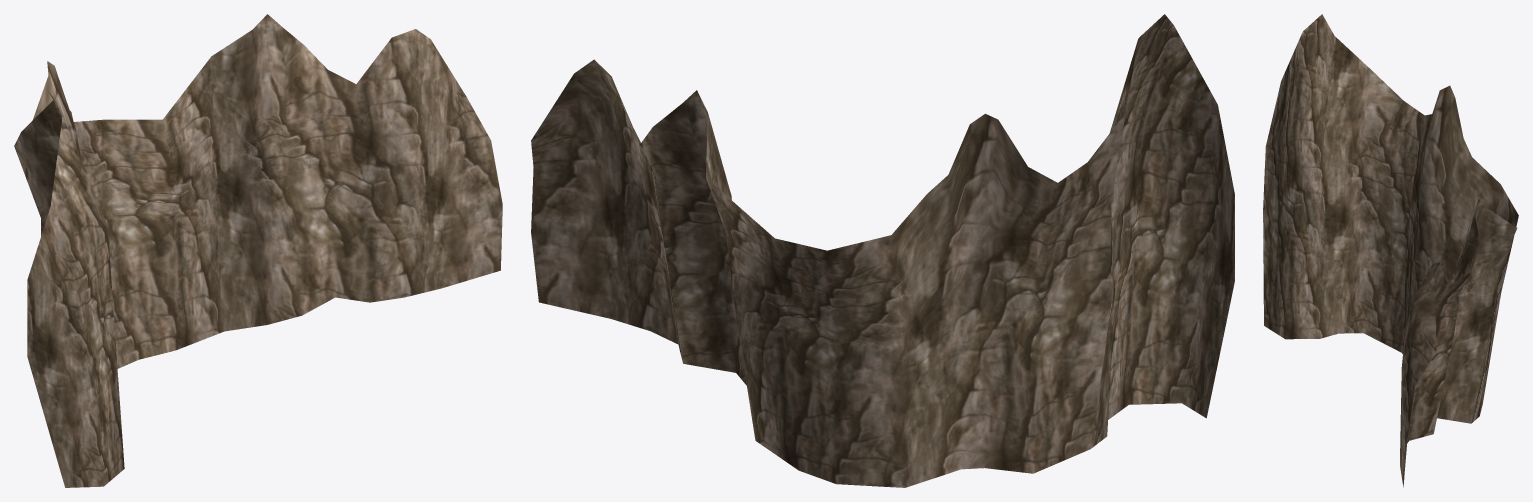
Rendered from OVERHILL_A_01_MOUNTAIN_BACKDROP_02.fbx.
3 views of the same model, side by side, from view 1: azimuth 30°, elevation 25°; view 2: azimuth 150°, elevation 25°; view 3: azimuth 270°, elevation 25° (orthographic). The views are drawn at different scales.
Parts seen in each view (by area): view 1: OVERHILL_A_01_MOUNTAIN_BACKDROP_02; view 2: OVERHILL_A_01_MOUNTAIN_BACKDROP_02; view 3: OVERHILL_A_01_MOUNTAIN_BACKDROP_02.
Boxes of the visible parts, box(x1,y1,x2,y2) form: OVERHILL_A_01_MOUNTAIN_BACKDROP_02: box(14, 14, 502, 487); OVERHILL_A_01_MOUNTAIN_BACKDROP_02: box(531, 14, 1234, 487); OVERHILL_A_01_MOUNTAIN_BACKDROP_02: box(1263, 14, 1518, 487).
Size of the model in its own units: 307971 by 209150 by 154013.
1 material, 1 textured.
